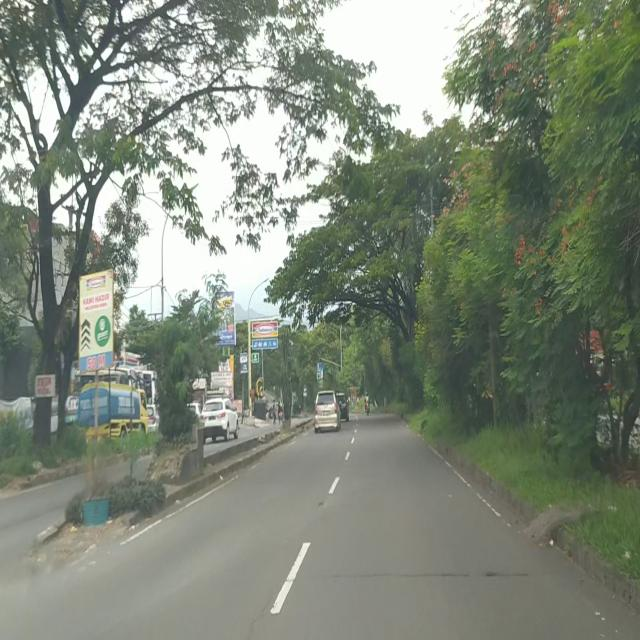Sewer Cover: (327, 568, 531, 584)
